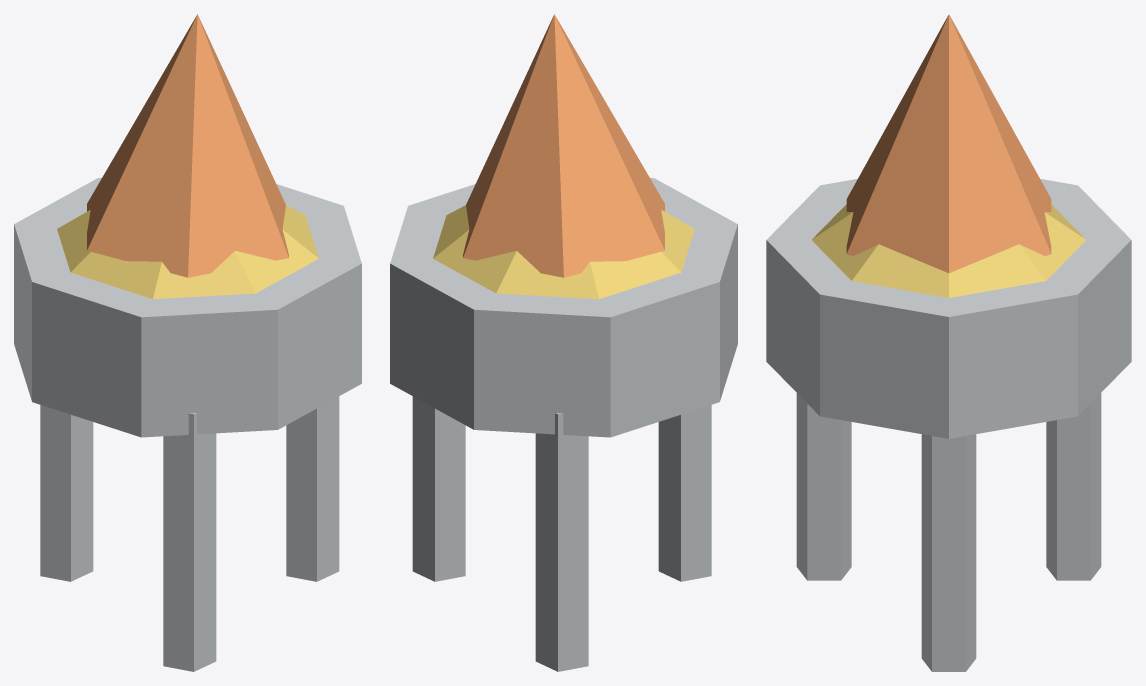
File: animprop_brazier_00.glb
The picture shows the model from 3 angles, left to right: view 1: azimuth 30°, elevation 25°; view 2: azimuth 150°, elevation 25°; view 3: azimuth 270°, elevation 25°; orthographic projection.
Visible parts, largest first — view 1: animprop; view 2: animprop; view 3: animprop.
Boxes of the visible parts, x1,y1,x2,y2 form: animprop: (14,14,361,671); animprop: (390,14,737,671); animprop: (766,14,1131,671).
Bounding box in the file's own units: 0.76 × 1.36 × 0.76.
